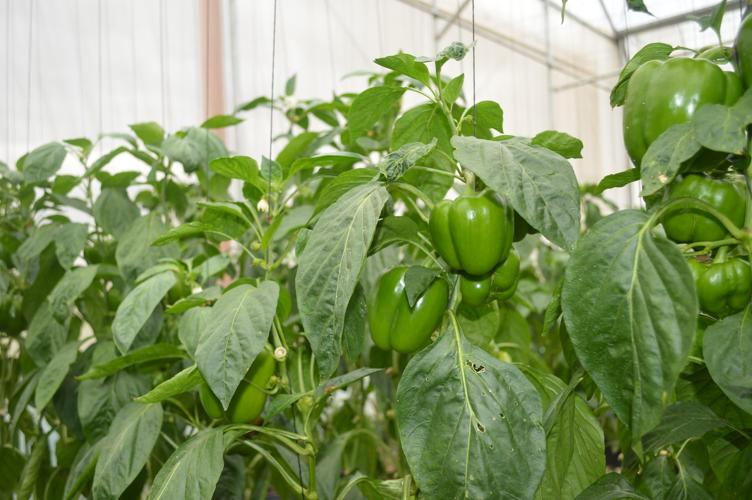BellPepper: (612, 45, 741, 180), (423, 189, 522, 273), (361, 267, 449, 359), (187, 343, 284, 426), (655, 173, 746, 254), (673, 250, 752, 323), (441, 259, 528, 321)
